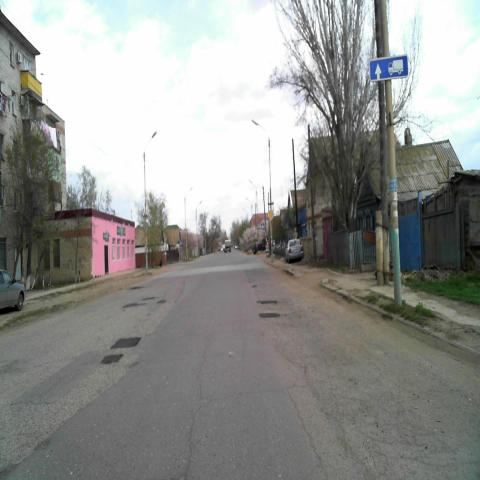6_15_1: (370, 57, 407, 78)
